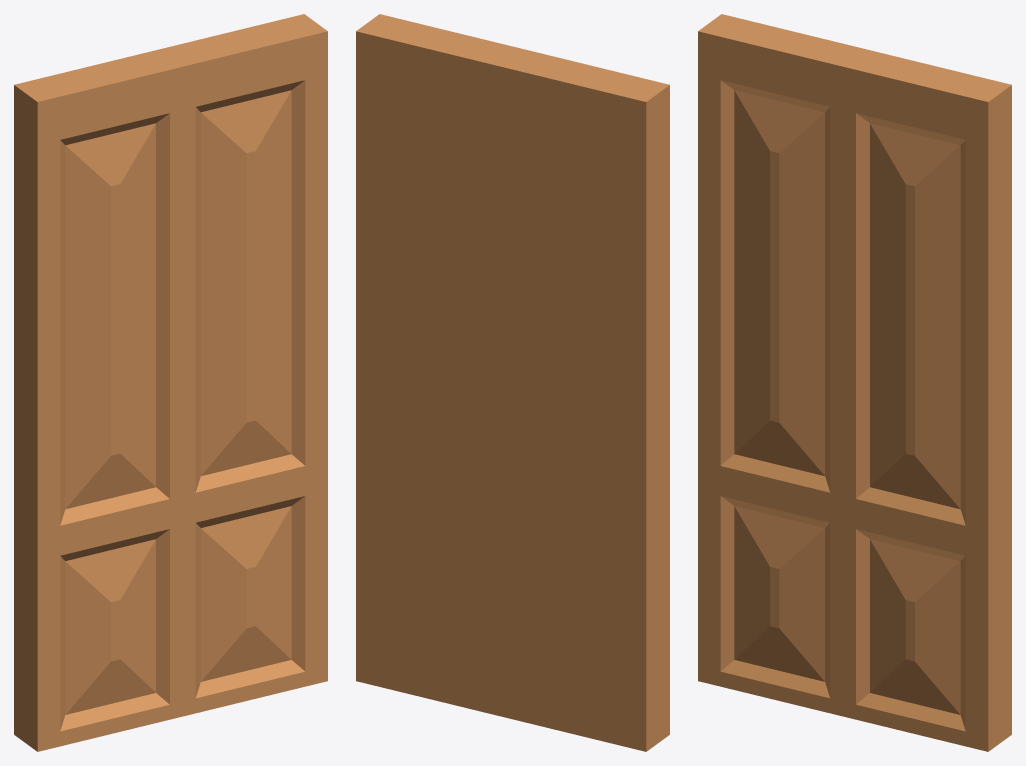
The model's file is DoorType2.fbx.
The picture shows the model from 3 angles, left to right: view 1: azimuth 30°, elevation 25°; view 2: azimuth 150°, elevation 25°; view 3: azimuth 330°, elevation 25°; orthographic projection.
Visible parts, largest first — view 1: DoorType2; view 2: DoorType2; view 3: DoorType2.
Boxes of the visible parts, x1=… form: DoorType2: x1=14, y1=14, x2=327, y2=751; DoorType2: x1=356, y1=14, x2=669, y2=751; DoorType2: x1=698, y1=14, x2=1011, y2=751.
Bounding box in the file's own units: 1.42 × 0.2058 × 3.03.
